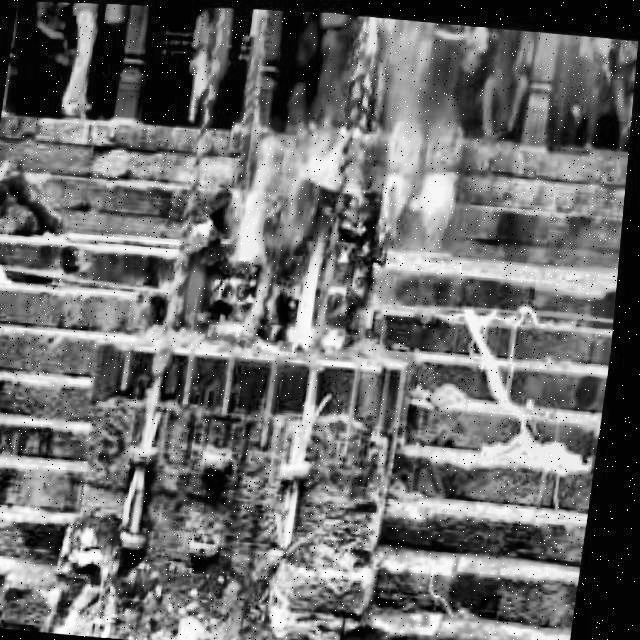Fire: (225, 125, 344, 358)
